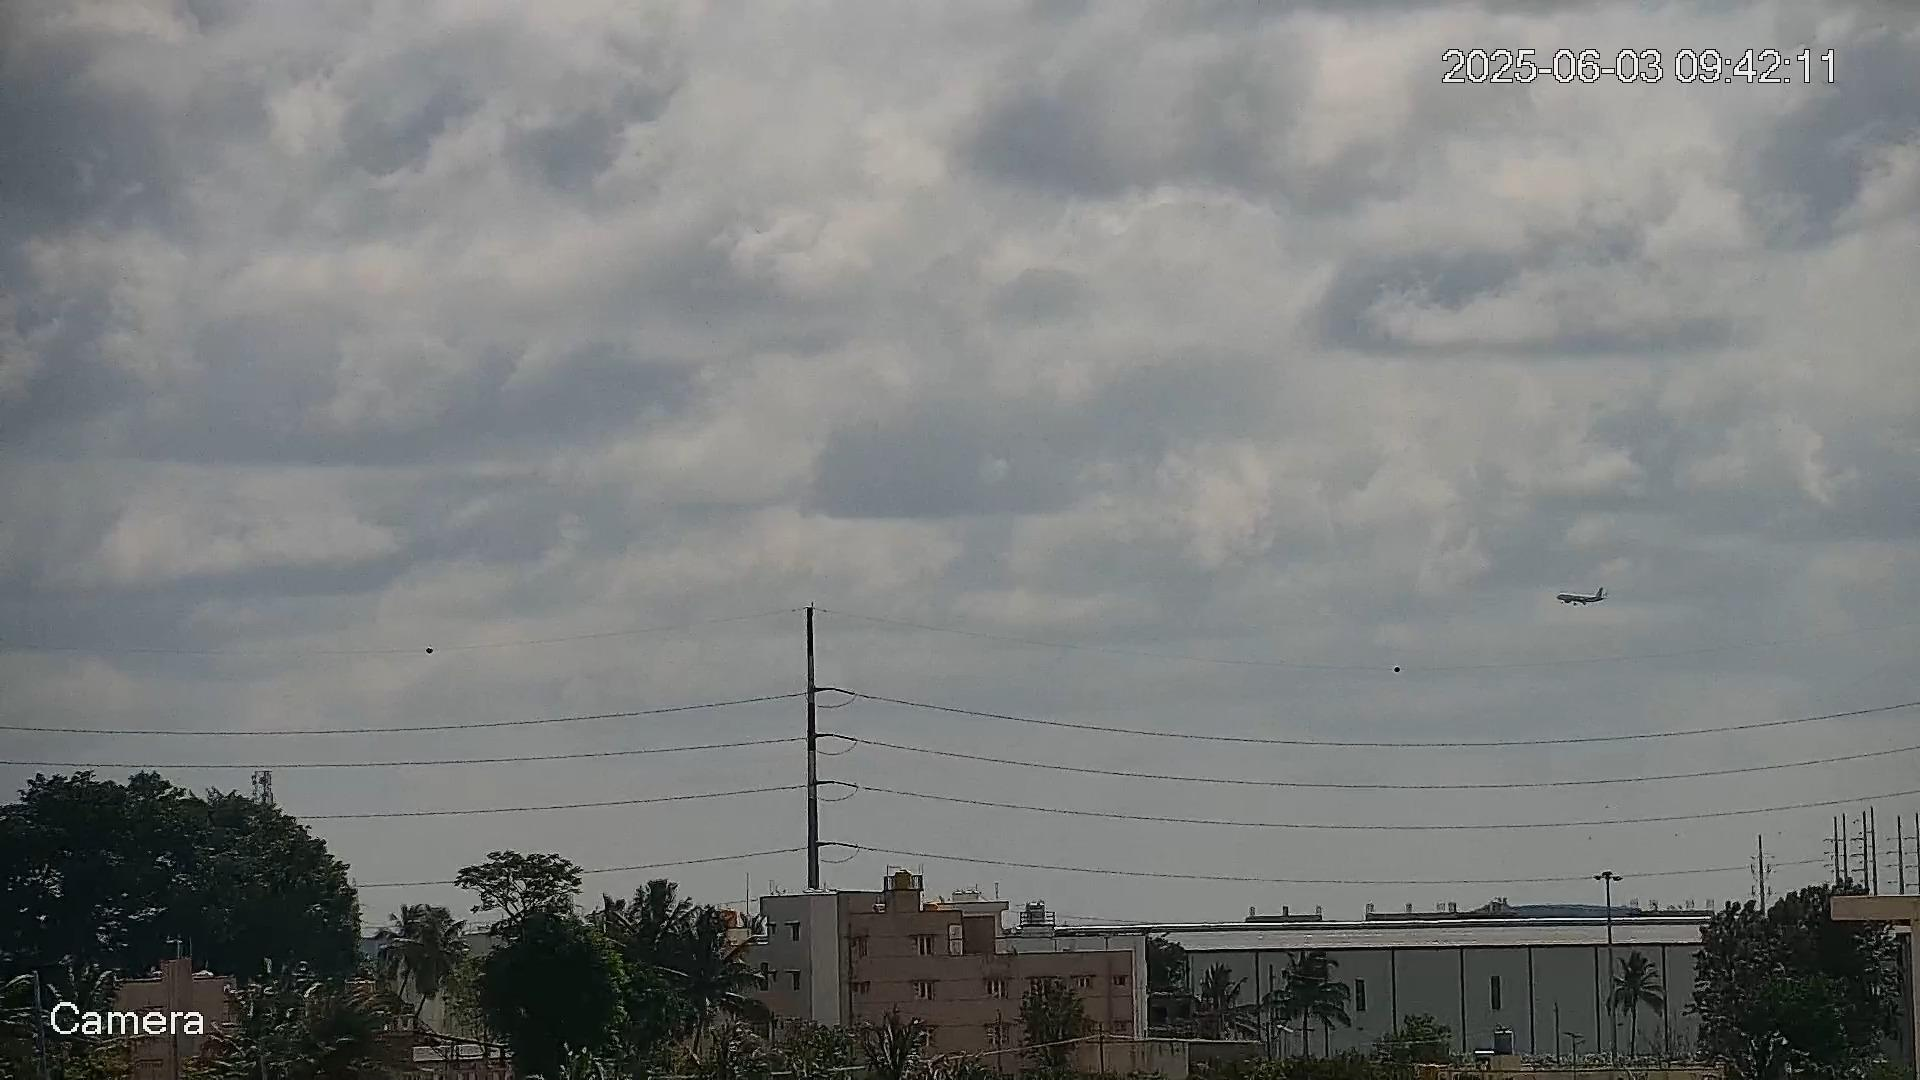Aircraft: (1556, 587, 1607, 607)
